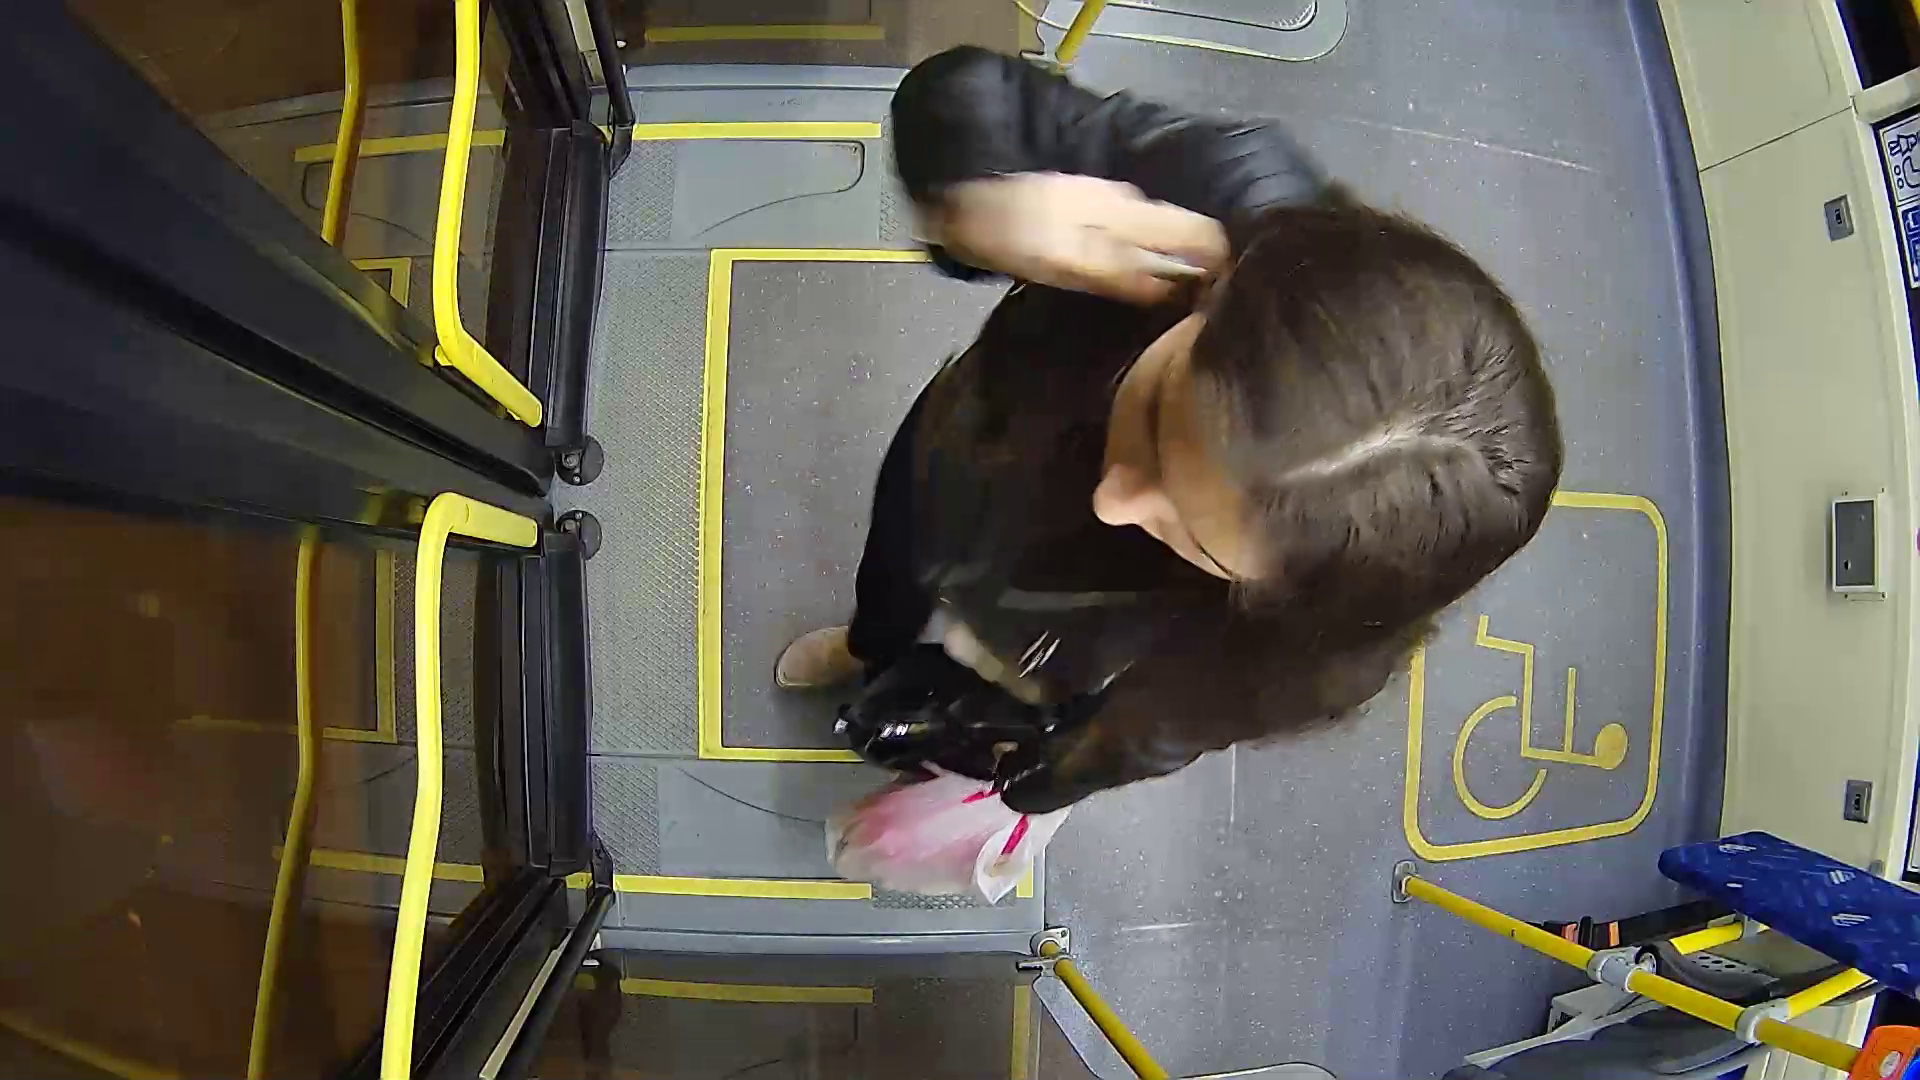person: (746, 49, 1568, 847)
